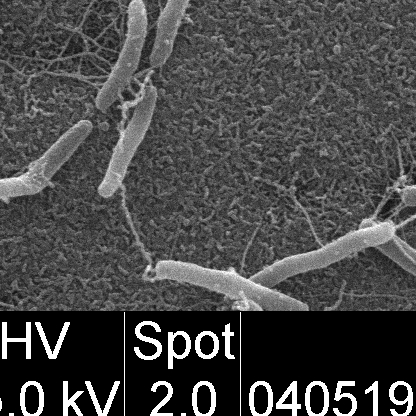cell2cell: (114, 172, 157, 266), (397, 145, 416, 231), (115, 91, 130, 145)
cell2surface: (279, 182, 328, 249), (43, 53, 111, 84), (242, 222, 264, 275)
filament: (252, 221, 396, 288), (0, 120, 92, 202), (157, 259, 310, 308), (0, 0, 18, 85)
regular: (100, 84, 157, 198), (95, 0, 146, 111), (360, 221, 416, 284), (151, 0, 193, 70), (401, 170, 416, 207)
